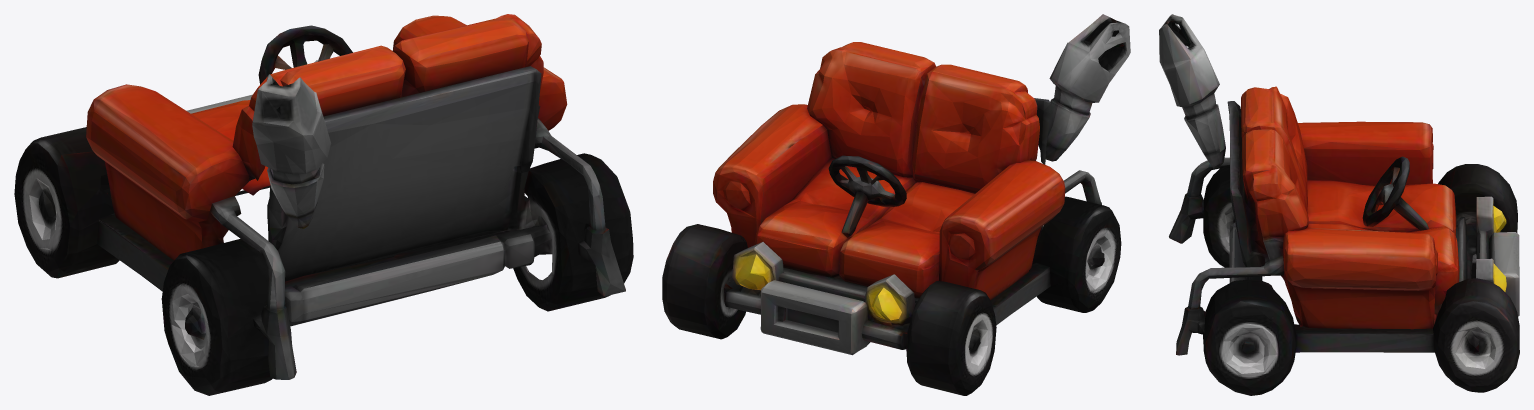
Rendered from cs_v_divano.glb.
The picture shows the model from 3 angles, left to right: view 1: azimuth 30°, elevation 25°; view 2: azimuth 150°, elevation 25°; view 3: azimuth 270°, elevation 25°; orthographic projection. The views are drawn at different scales.
Parts seen in each view (by area): view 1: v_divano; view 2: v_divano; view 3: v_divano.
Boxes of the visible parts, x1=… form: v_divano: x1=14, y1=14, x2=633, y2=395; v_divano: x1=662, y1=14, x2=1130, y2=395; v_divano: x1=1159, y1=14, x2=1519, y2=395.
Size of the model in its own units: 2.9 by 2.29 by 3.
Materials: 1 (1 with a texture image).
